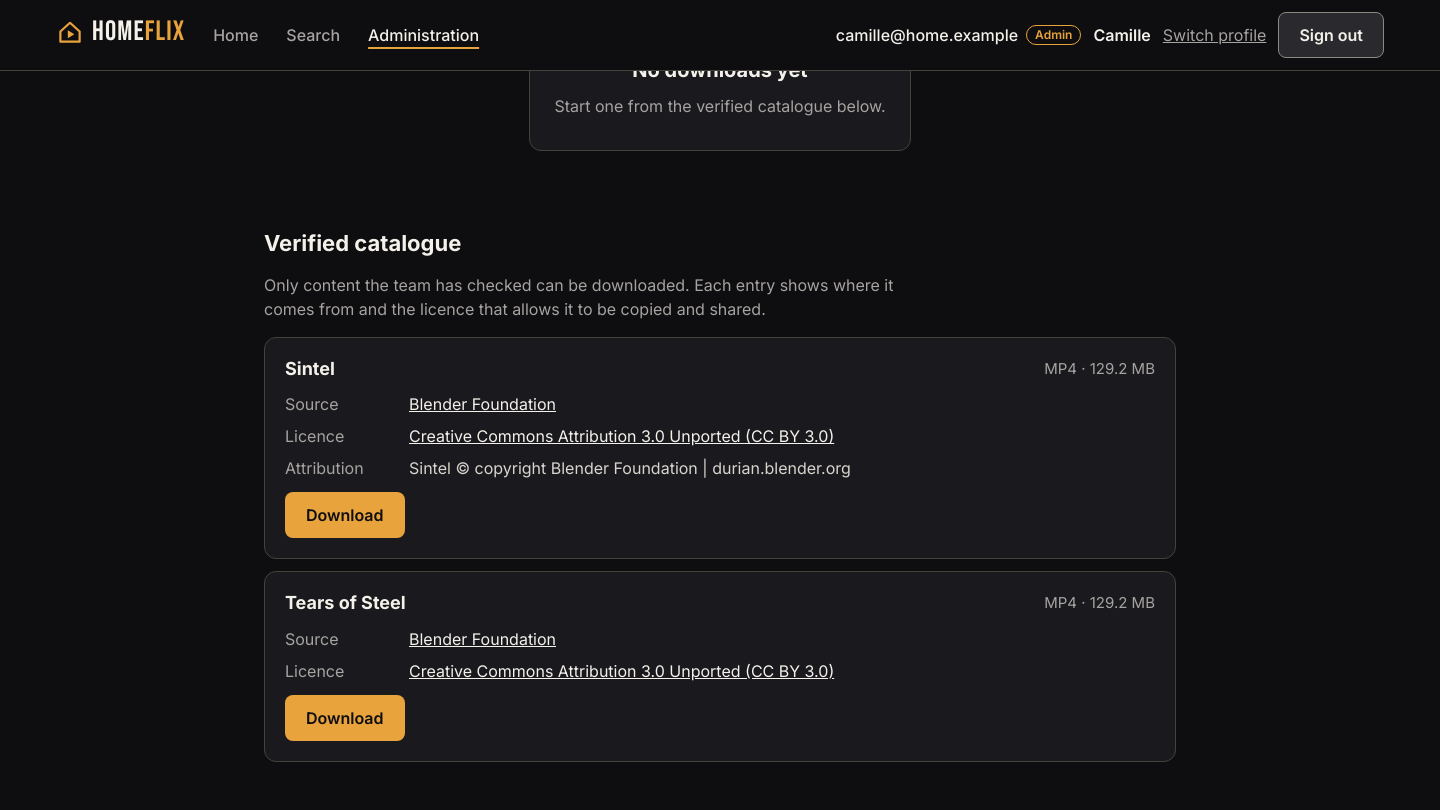
Test case: DownloadsPage › starts nothing when the reminder is dismissed, with its button or Escape
This screenshot has width=1440, height=810.
(page scrolled)
Click the button with aria-label "Download Sintel".
click(345, 515)  # box left=285, top=492, right=404, bottom=538
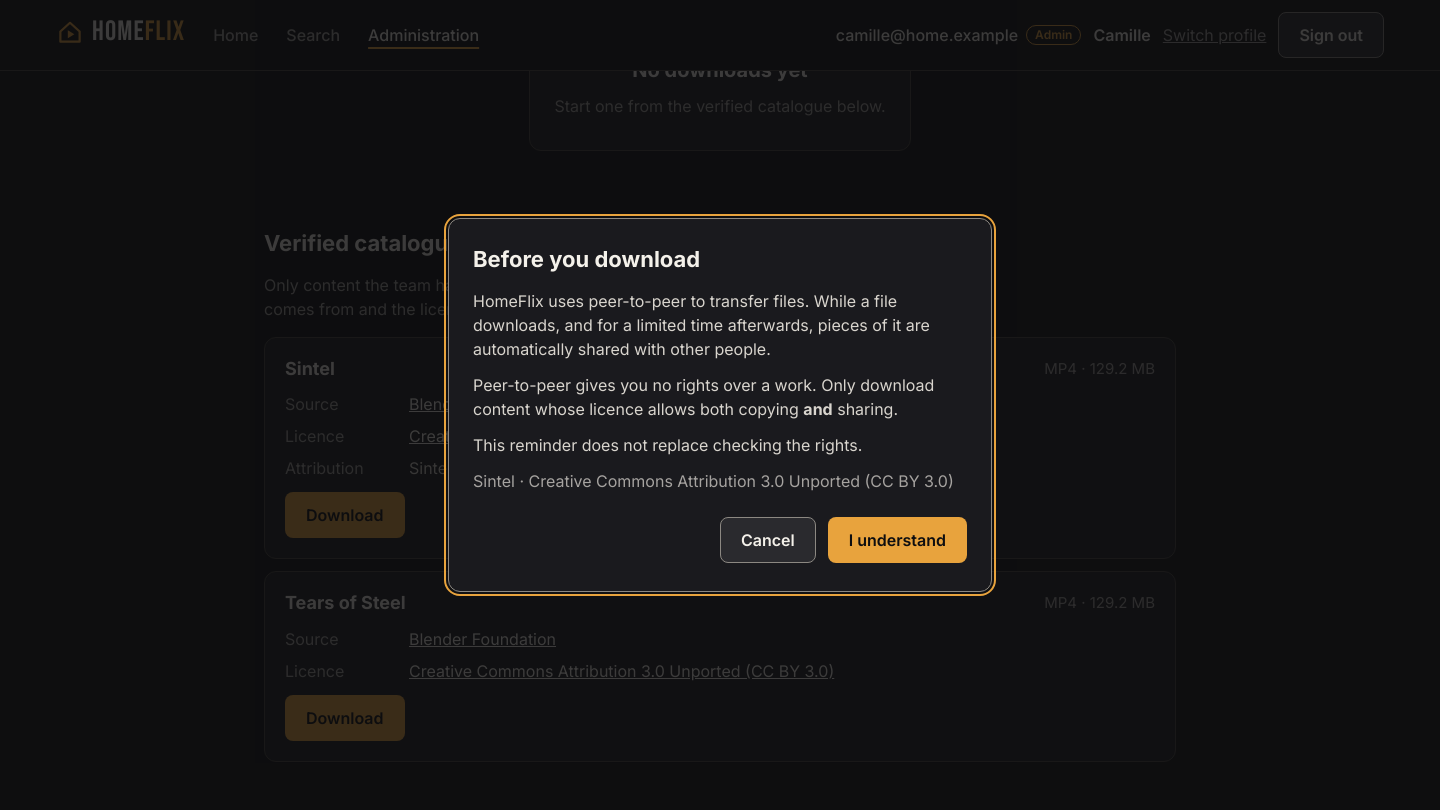
Click the button "Cancel".
click(768, 540)  # box left=720, top=517, right=816, bottom=563
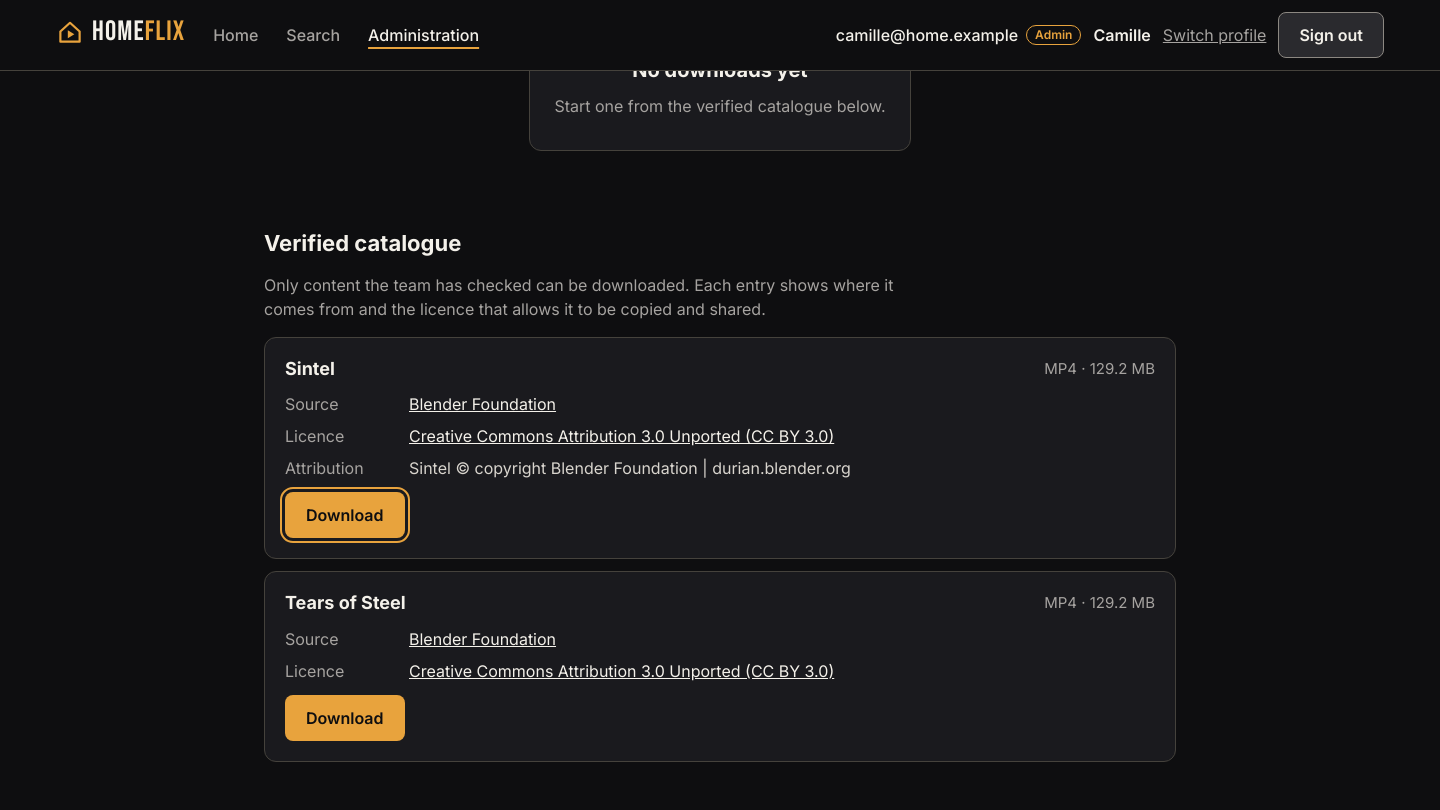
Expected: the dialog is gone
Click the button with aria-label "Download Sintel".
click(345, 515)  # box left=285, top=492, right=404, bottom=538
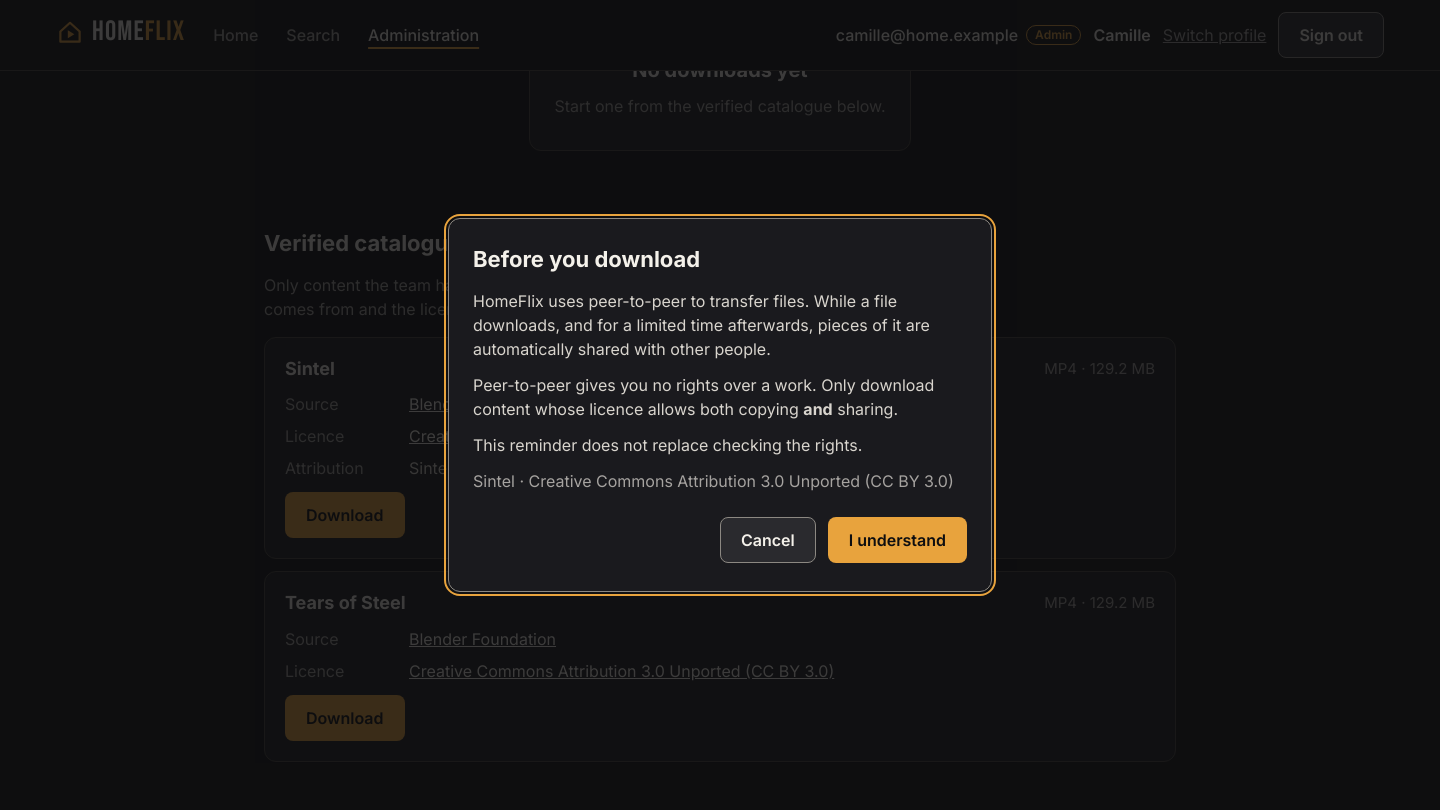
Press Escape
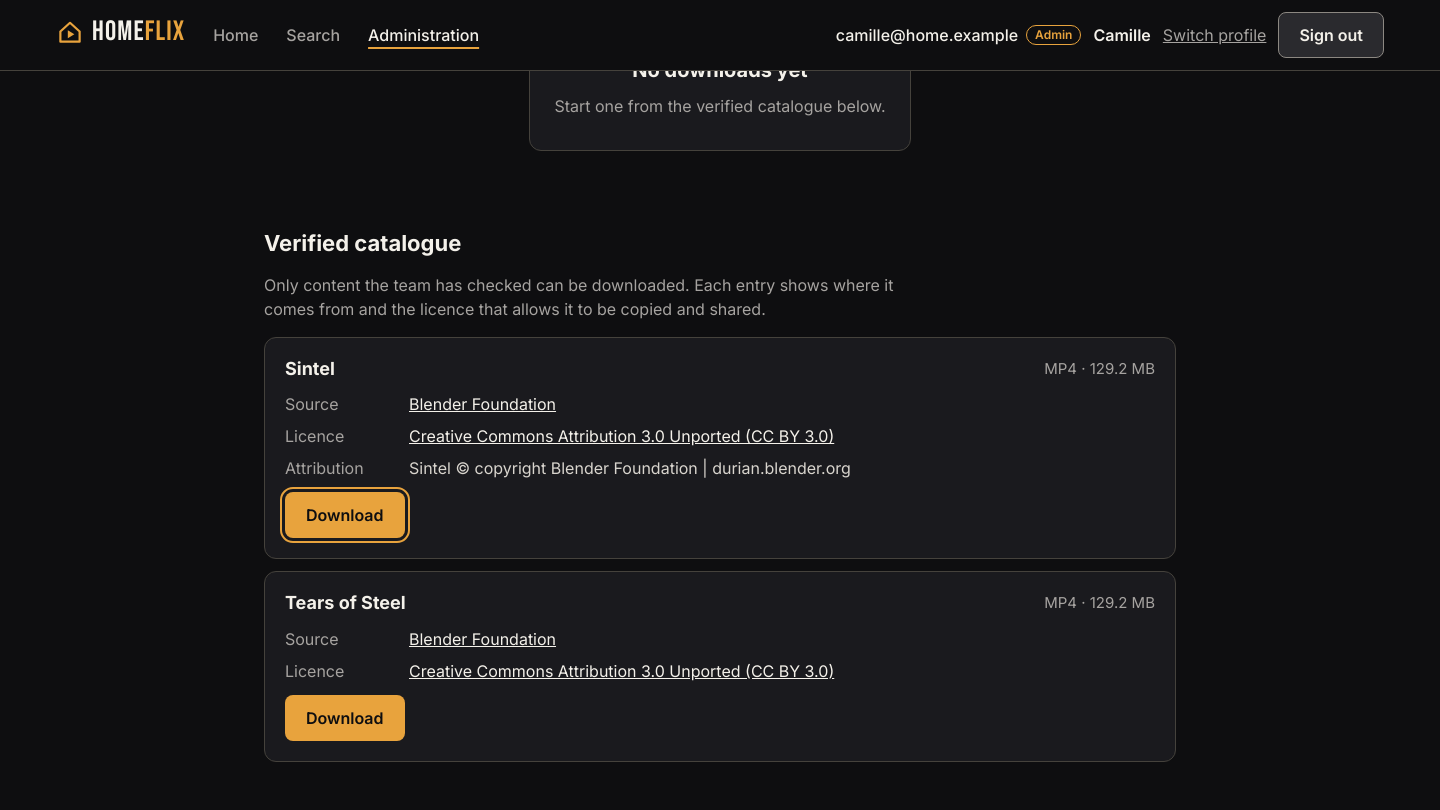
Expected: the dialog is gone
